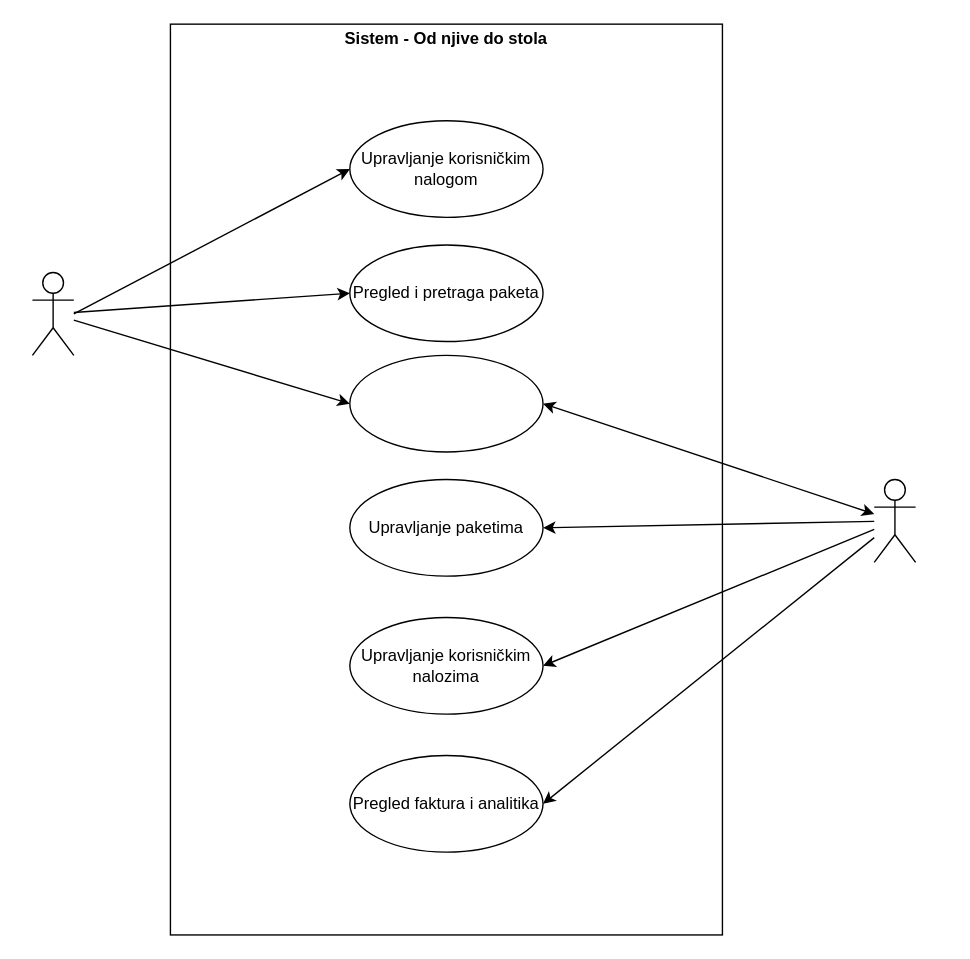
The diagram is 970 pixels wide and 959 high, and some of its shapes have lost their labels. The box of each missing label's shape, as (x1, y1, x2, y2) in pixels:
Administrator/ Vlasnik: (873, 478, 916, 562)
Korisnik: (31, 271, 74, 355)
Upravljanje porudžbinom: (348, 354, 543, 452)
